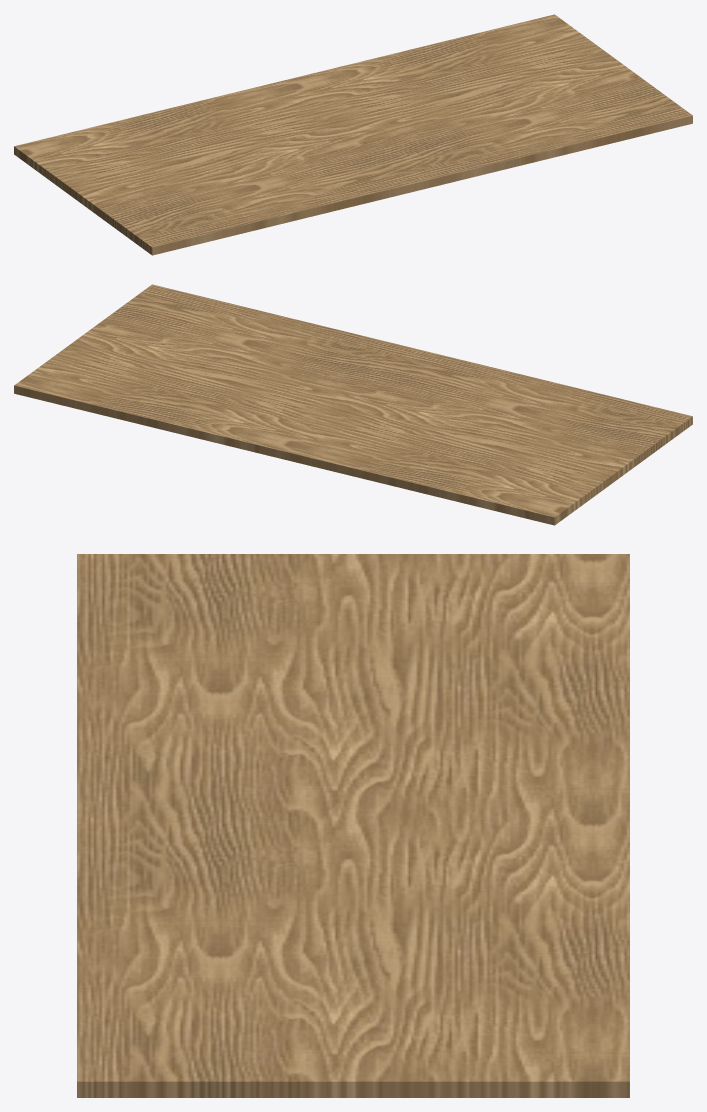
The picture shows the model from 3 angles, top to bottom: view 1: azimuth 30°, elevation 25°; view 2: azimuth 150°, elevation 25°; view 3: azimuth 270°, elevation 25°; orthographic projection. The views are drawn at different scales.
Visible parts, largest first — view 1: Plane035_Wood_04002_0; view 2: Plane035_Wood_04002_0; view 3: Plane035_Wood_04002_0.
Part boxes in pixels (x1,y1,x2,y2): Plane035_Wood_04002_0: (14, 14, 692, 255); Plane035_Wood_04002_0: (14, 284, 692, 525); Plane035_Wood_04002_0: (77, 554, 629, 1097).
Size of the model in its own units: 14 by 0.2 by 6.2.
Materials: 1 (1 with a texture image).
